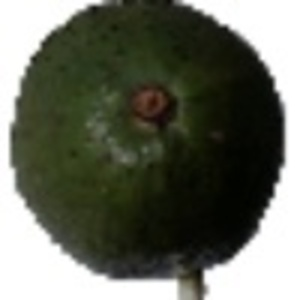abacate: (3, 3, 286, 280)
